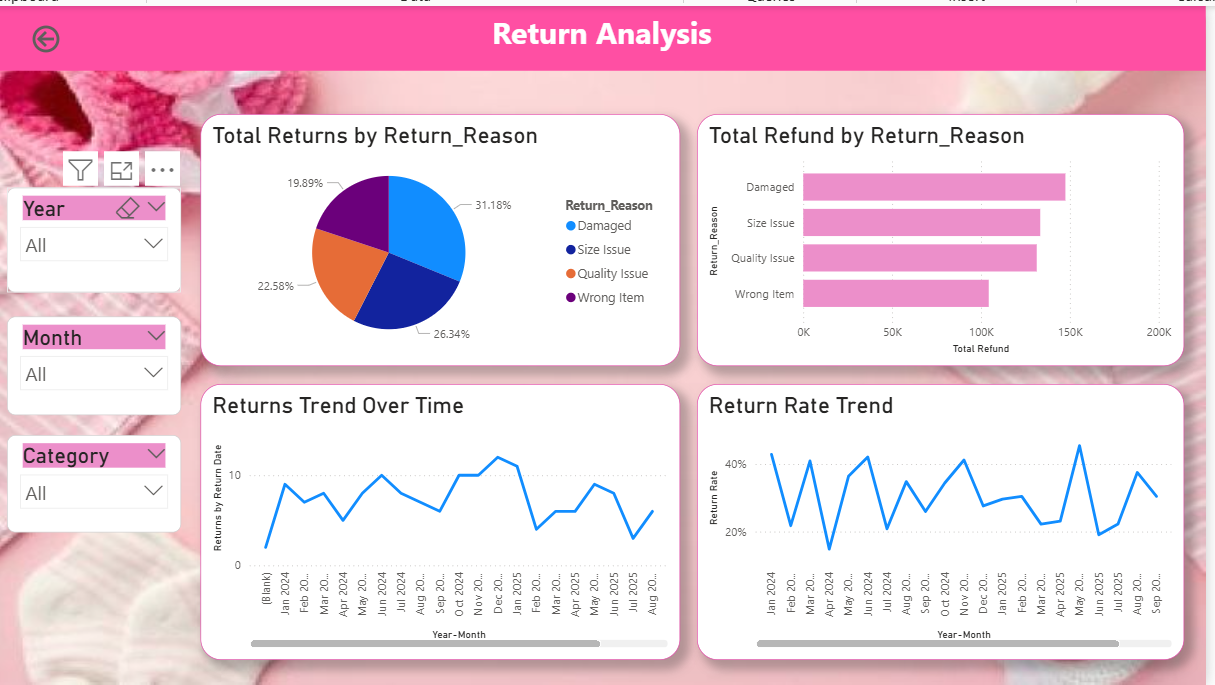

The dashboard page shown, as its layout file describes it:
{"tool":"powerbi","page":{"name":"Return Analysis","canvas":[1280,720],"ordinal":1},"visuals":[{"type":"textbox","box":[0,0,1280.4,68.4],"z":0},{"type":"actionButton","box":[31.8,15.9,138.4,38.2],"z":1000},{"type":"pieChart","fields":{"Category":["Returns.Return_Reason"],"Y":["Measure Table.Total Returns"]},"box":[214.7,114.5,509,267.2],"z":2000},{"type":"barChart","fields":{"Category":["Returns.Return_Reason"],"Y":["Measure Table.Total Refund"]},"box":[741.2,114.5,516.9,267.2],"z":3000},{"type":"lineChart","title":"Returns Trend Over Time","fields":{"Y":["DateTable.Returns by Return Date"],"Category":["DateTable.Year-Month"]},"box":[214.7,400.8,509,292.7],"z":4000},{"type":"lineChart","title":"Return Rate Trend","fields":{"Category":["DateTable.Year-Month"],"Y":["Measure Table.Return Rate"]},"box":[741.2,400.8,516.9,292.7],"z":5000},{"type":"slicer","fields":{"Values":["DateTable.Date.Variation.Date Hierarchy.Year"]},"box":[9.5,192.5,184.5,111.3],"z":6000},{"type":"slicer","fields":{"Values":["DateTable.Date.Variation.Date Hierarchy.Month"]},"box":[9.5,329.3,184.5,105],"z":7000},{"type":"slicer","fields":{"Values":["Orders.Category"]},"box":[9.5,454.9,184.5,103.4],"z":8000}]}

Visuals, with their boxes in screenshot pixels (x1, y1, x2, y2):
textbox: {"x1": 0, "y1": 3, "x2": 1199, "y2": 67}
actionButton: {"x1": 30, "y1": 18, "x2": 159, "y2": 54}
pieChart - Returns.Return_Reason x Measure Table.Total Returns: {"x1": 201, "y1": 110, "x2": 677, "y2": 360}
barChart - Returns.Return_Reason x Measure Table.Total Refund: {"x1": 694, "y1": 110, "x2": 1178, "y2": 360}
"Returns Trend Over Time" lineChart: {"x1": 201, "y1": 378, "x2": 677, "y2": 652}
"Return Rate Trend" lineChart: {"x1": 694, "y1": 378, "x2": 1178, "y2": 652}
slicer - DateTable.Date.Variation.Date Hierarchy.Year: {"x1": 9, "y1": 183, "x2": 182, "y2": 288}
slicer - DateTable.Date.Variation.Date Hierarchy.Month: {"x1": 9, "y1": 311, "x2": 182, "y2": 410}
slicer - Orders.Category: {"x1": 9, "y1": 429, "x2": 182, "y2": 526}
